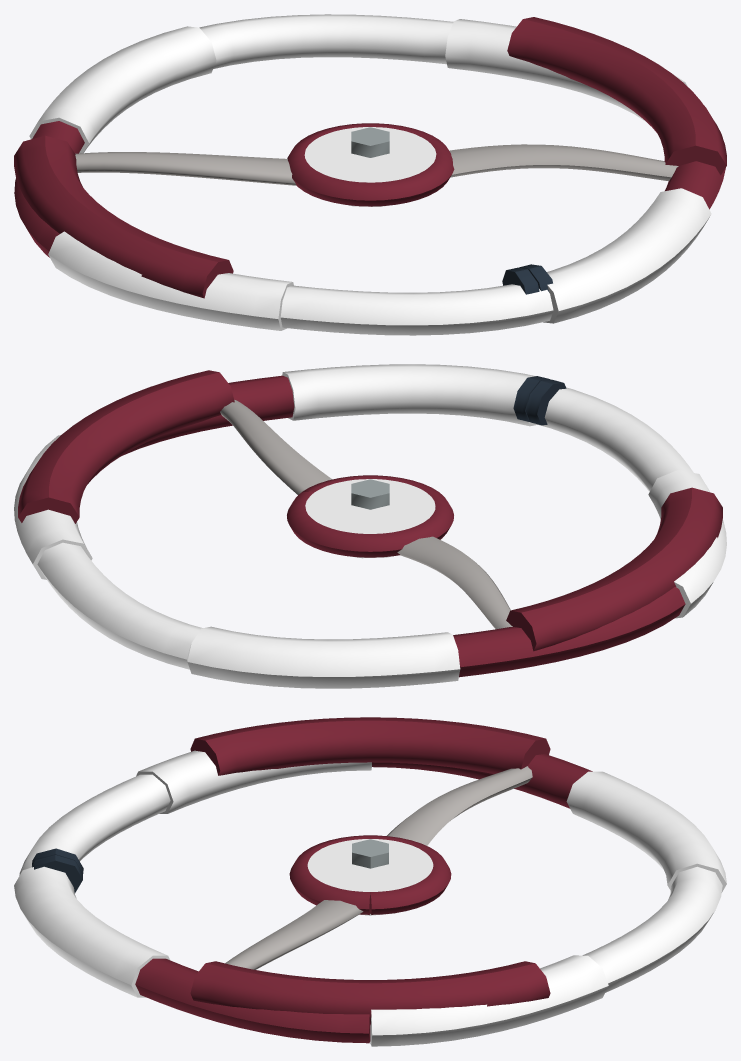
Rendered from Wheel_11_R_舷窓・臙脂.glb.
The picture shows the model from 3 angles, top to bottom: view 1: azimuth 30°, elevation 25°; view 2: azimuth 150°, elevation 25°; view 3: azimuth 270°, elevation 25°; orthographic projection. The views are drawn at different scales.
Parts seen in each view (by area): view 1: Wheel_11_R; view 2: Wheel_11_R; view 3: Wheel_11_R.
Part boxes in pixels (box(x1,y1,x2,y2)): Wheel_11_R: box(14, 14, 726, 335); Wheel_11_R: box(14, 364, 726, 688); Wheel_11_R: box(14, 717, 726, 1046).
Bounding box in the file's own units: 0.3349 × 0.0299 × 0.3349.
Materials: 4 (4 with a texture image).
